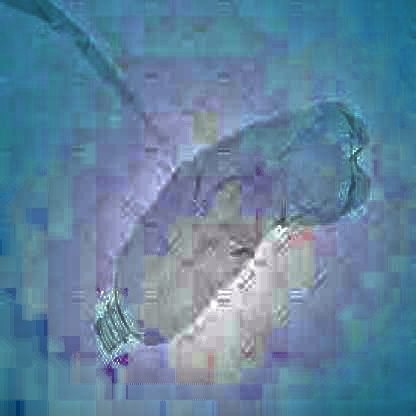pbottle: (89, 100, 372, 368)
